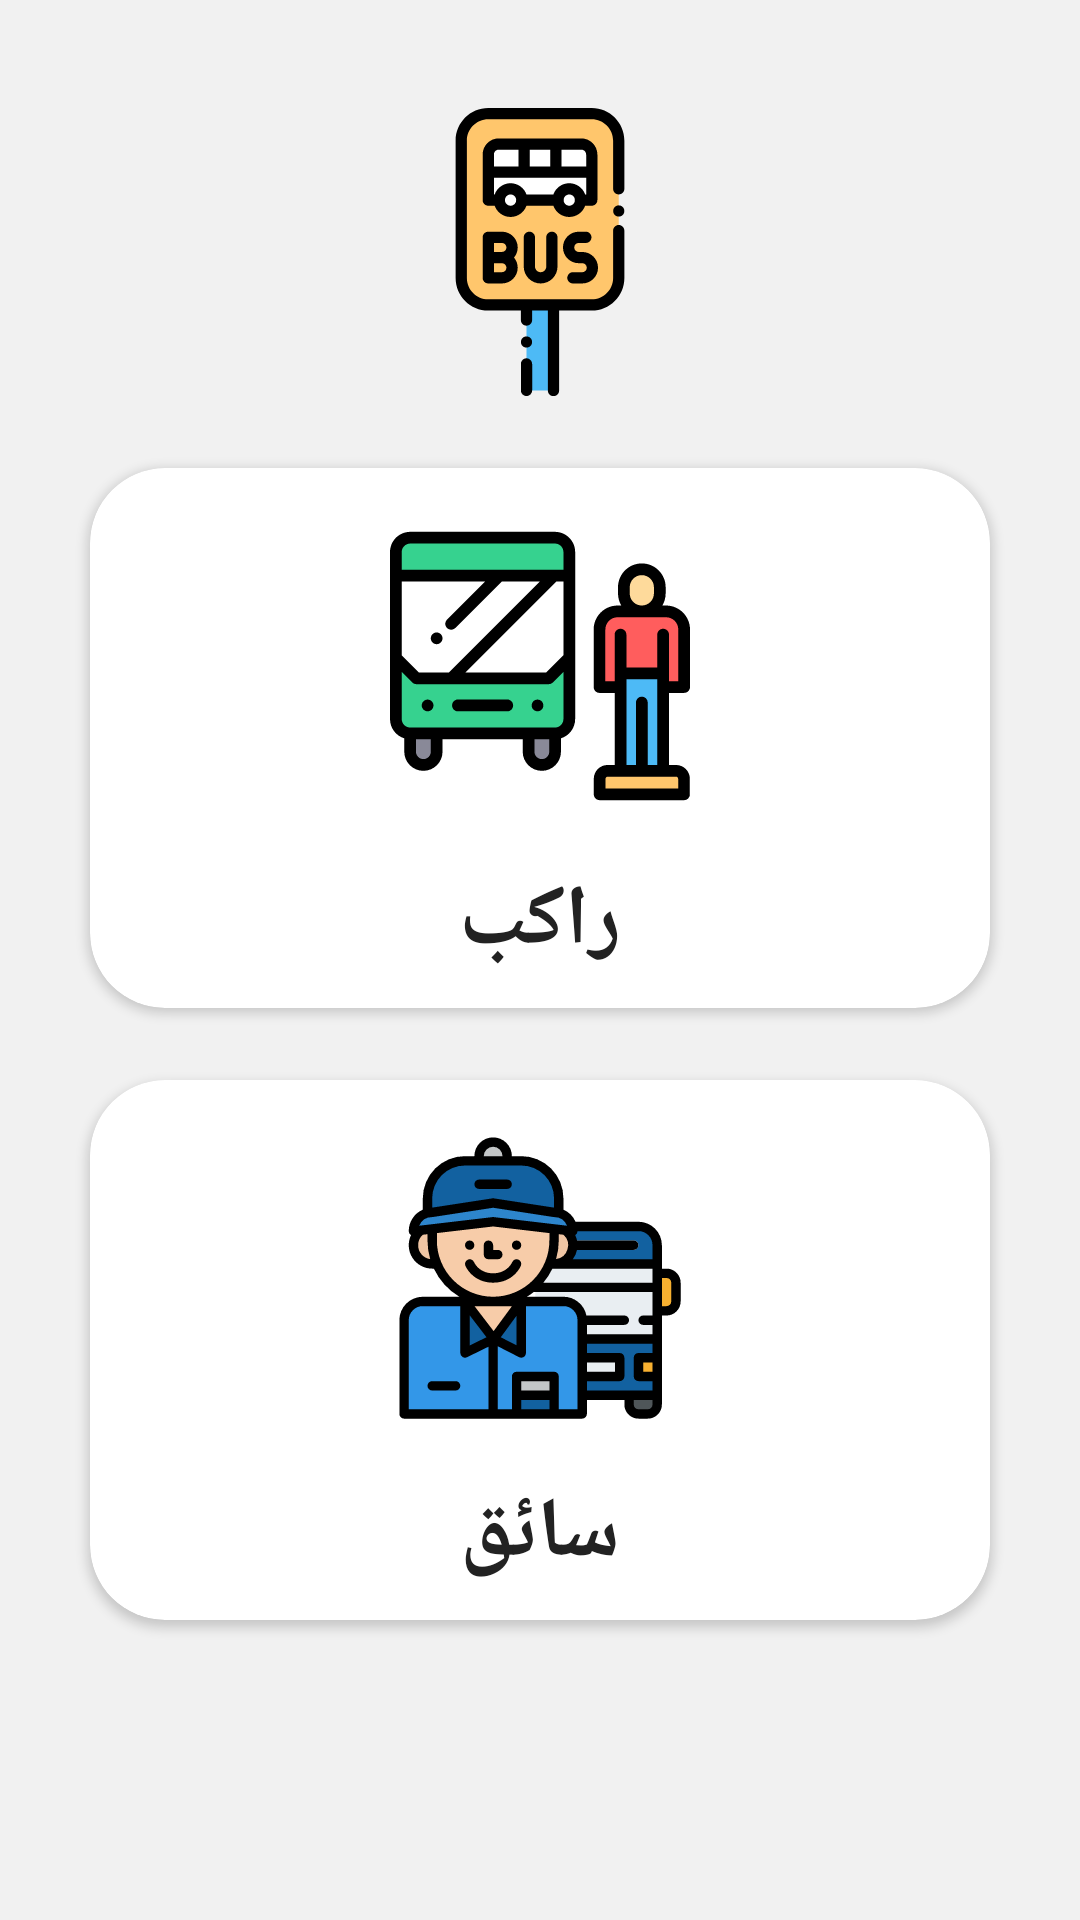

Screen size 1080px×1920px. Icon name, then its center in pixels as (x=x, y=y):
bus stop: (x=540, y=252)
